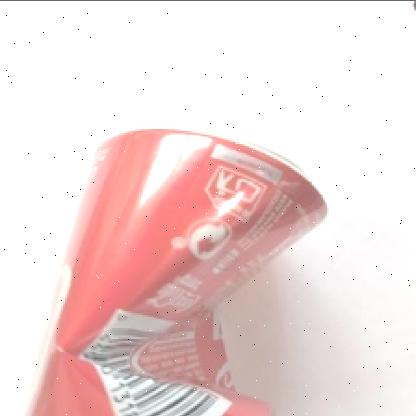Can: (20, 100, 343, 416)
